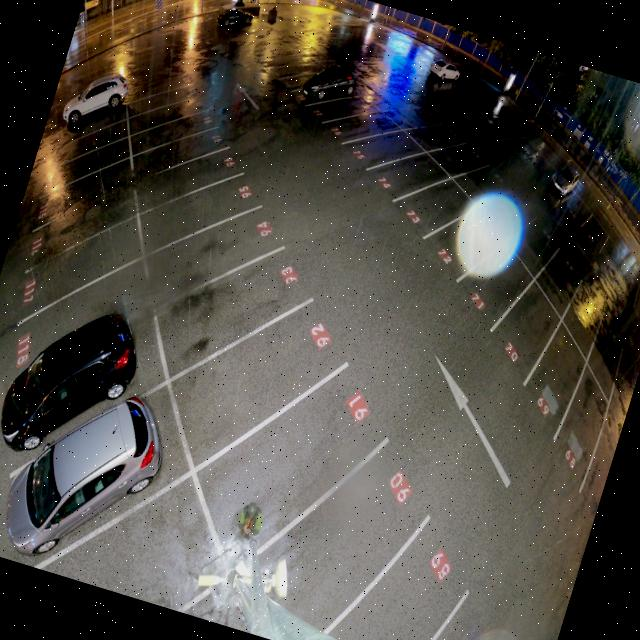empty: (115, 493, 218, 614), (295, 488, 382, 606), (378, 528, 461, 640), (239, 424, 324, 524), (207, 339, 286, 426), (192, 270, 266, 339), (436, 211, 486, 277), (561, 384, 608, 453), (537, 341, 583, 408), (504, 292, 548, 362), (173, 233, 227, 290), (42, 286, 92, 344), (478, 262, 522, 318), (415, 180, 459, 236), (52, 240, 102, 283), (160, 196, 203, 240), (392, 152, 430, 198), (364, 126, 399, 170), (156, 159, 194, 197), (343, 112, 378, 148), (165, 132, 198, 162), (322, 93, 348, 120)
occupied: (0, 282, 147, 466), (7, 392, 164, 548), (57, 66, 131, 140), (308, 58, 352, 100)
